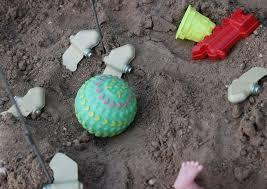PMF 1: (59, 28, 100, 74), (38, 151, 83, 189), (98, 44, 136, 86), (2, 87, 45, 124), (227, 65, 267, 104)
